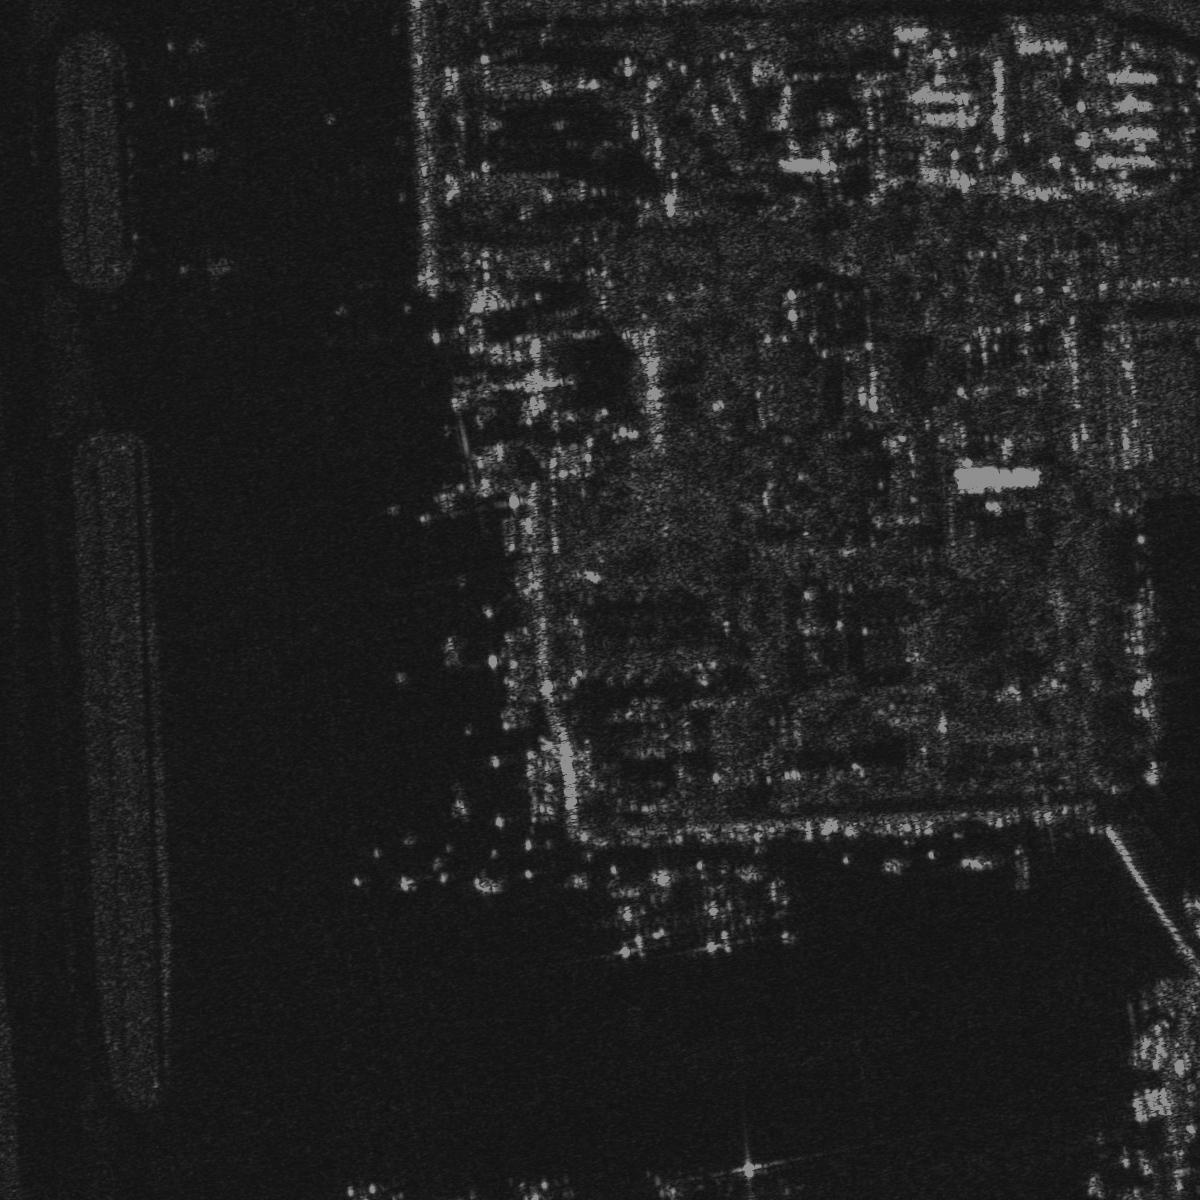ARJ21: (757, 863, 800, 945), (160, 78, 227, 122), (171, 133, 227, 173)
Boeing737: (592, 876, 680, 962)
other: (689, 873, 755, 955), (149, 23, 216, 65), (177, 243, 240, 285), (338, 1171, 385, 1199), (647, 1174, 695, 1199), (516, 1178, 565, 1199)
